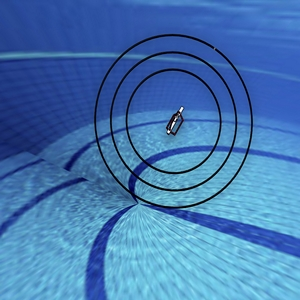circle: (90, 17, 264, 215)
submarine: (161, 101, 191, 145)
